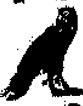Owl: (3, 5, 82, 103)
